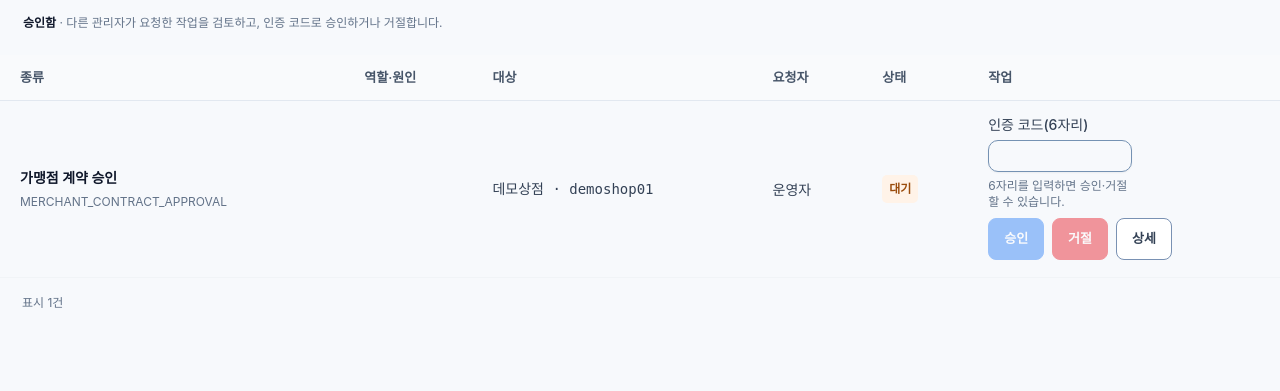
Test case: ApprovalsScreen — merchant contract approvals (MERCHANT-OPS-002 §9.6) › an approver approves with the TOTP; a server 403 APPROVER_IS_REGISTRANT is shown with its message
Type "123456" into the field labelled "인증 코드(6자리)". click: (1060, 156)
box: [988,140,1132,172]
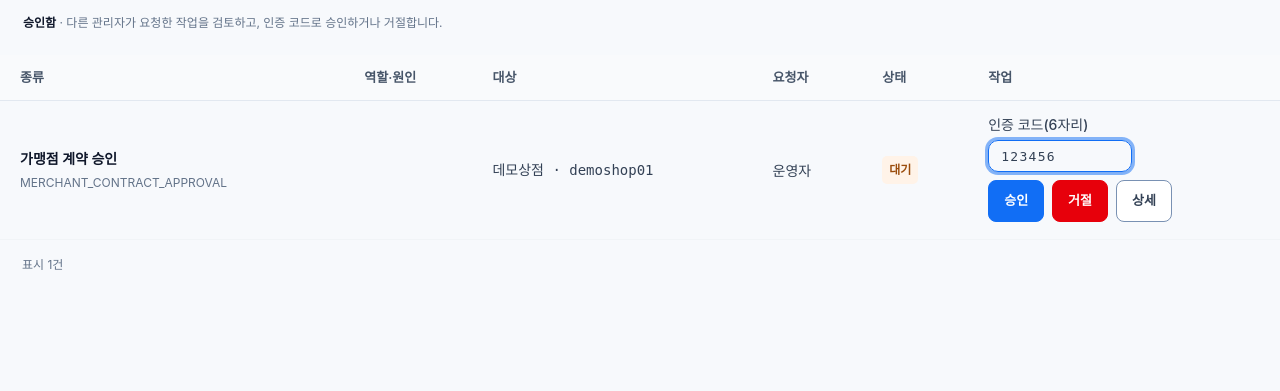
Click the button "승인". click: (1016, 201)
box: [988,180,1044,222]
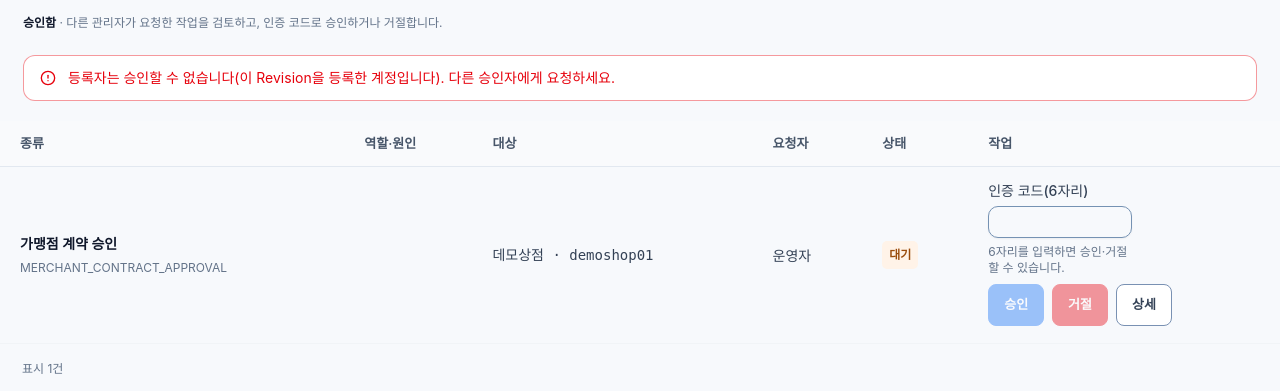
Check: the text "등록자는 승인할 수 없습니다(이 Revision을 등록한 계정입니다). 다른 승인자에게 요청하세요." is shown, box [68,69,615,86]
